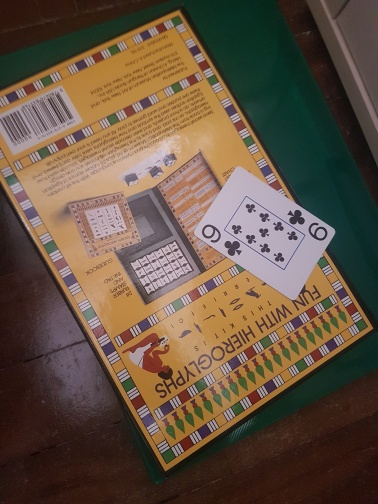nine: (195, 168, 337, 300)
